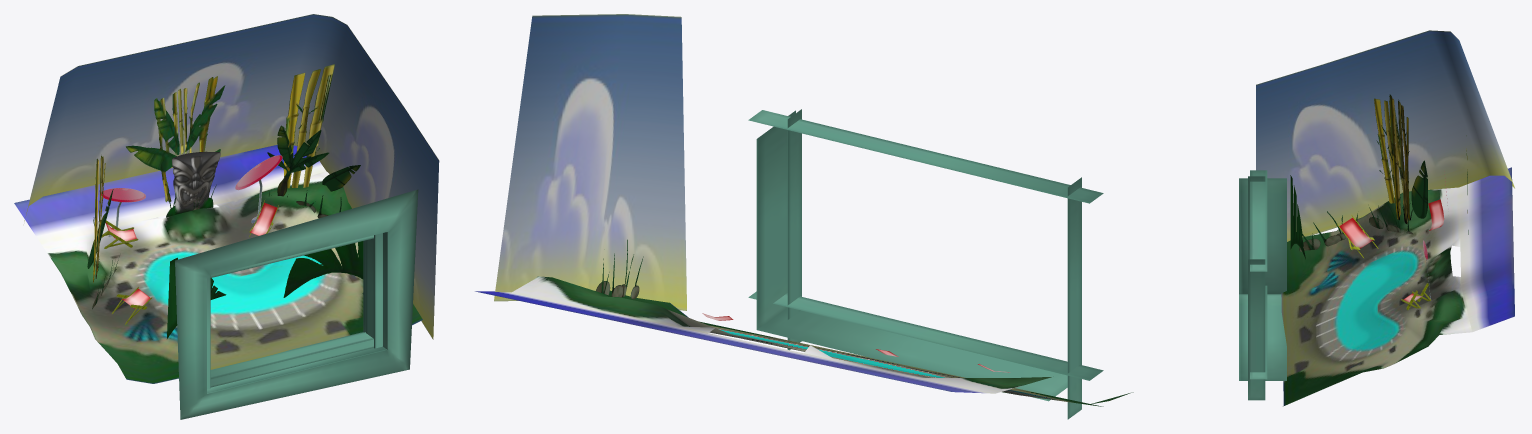
The model's file is PoolView.glb.
The picture shows the model from 3 angles, left to right: view 1: azimuth 30°, elevation 25°; view 2: azimuth 150°, elevation 25°; view 3: azimuth 270°, elevation 25°; orthographic projection. The views are drawn at different scales.
Visible parts, largest first — view 1: pCube1, pPlane1, WindowFrame, pPlane23, windowBar2, pPlane24, pPlane3, pPlane25, windowBar3, pPlane17, pPlane15, pPlane27 (+6 smaller); view 2: pCube1, WindowFrame, pPlane1, windowBar, windowBar2, windowBar1, windowBar3; view 3: pPlane1, pCube1, WindowFrame, windowBar3, windowBar, pPlane15, pPlane16, pPlane13, pPlane26, pPlane21, Cair_5, windowBar2 (+2 smaller).
Part boxes in pixels (box(x1,y1,x2,y2)): pCube1: box(24, 14, 439, 339); pPlane1: box(14, 144, 422, 383); WindowFrame: box(175, 189, 418, 419); pPlane23: box(126, 76, 225, 202); windowBar2: box(178, 332, 373, 387); pPlane24: box(282, 64, 334, 188); pPlane3: box(166, 151, 220, 217); pPlane25: box(283, 241, 363, 297); windowBar3: box(366, 233, 382, 348); pPlane17: box(267, 125, 329, 197); pPlane15: box(93, 155, 105, 282); pPlane27: box(235, 155, 282, 223); pCube1: box(494, 14, 686, 310); WindowFrame: box(756, 110, 1067, 401); pPlane1: box(475, 276, 1133, 406); windowBar: box(748, 110, 1103, 203); windowBar2: box(748, 291, 1103, 380); windowBar1: box(1067, 177, 1081, 419); windowBar3: box(787, 109, 801, 350); pPlane1: box(1281, 167, 1514, 406); pCube1: box(1256, 30, 1514, 241); WindowFrame: box(1239, 178, 1286, 380); windowBar3: box(1248, 259, 1265, 400); windowBar: box(1250, 170, 1267, 271); pPlane15: box(1388, 94, 1412, 223); pPlane16: box(1374, 98, 1404, 203); pPlane13: box(1411, 160, 1427, 218); pPlane26: box(1290, 175, 1305, 259); pPlane21: box(1299, 211, 1362, 251); Cair_5: box(1339, 217, 1373, 248); windowBar2: box(1250, 285, 1267, 379).
Size of the model in its own units: 14.65 by 11.66 by 10.88.
Materials: 5 (5 with a texture image).
